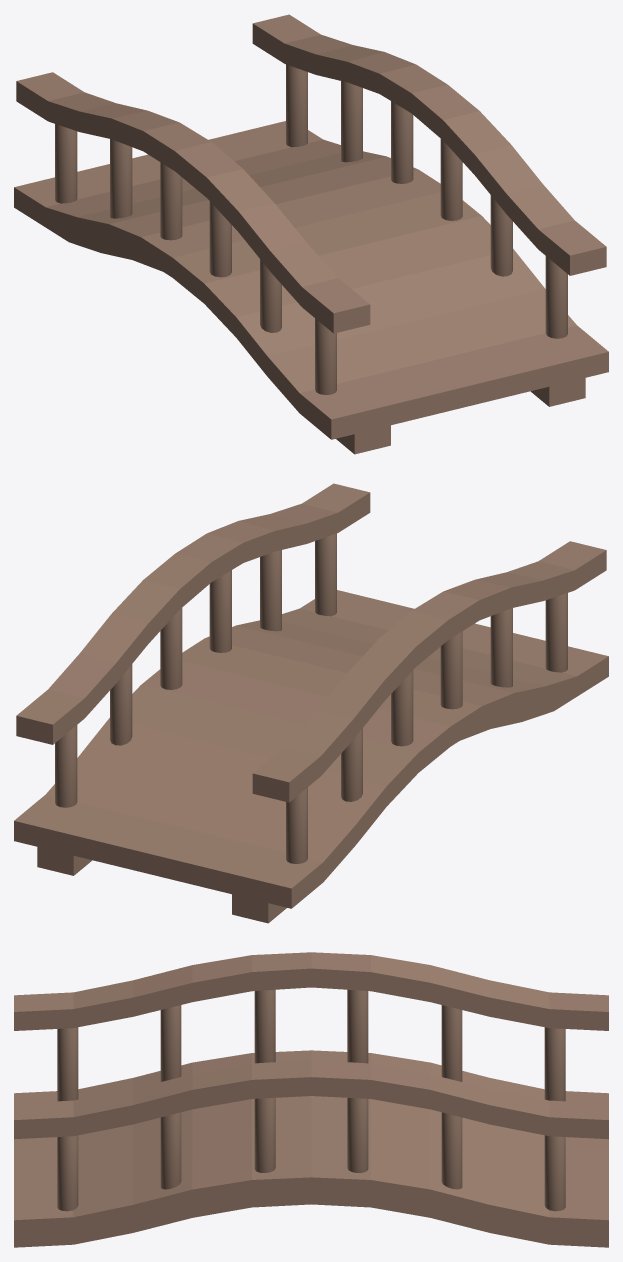
Rendered from Bridge.fbx.
The picture shows the model from 3 angles, top to bottom: view 1: azimuth 30°, elevation 25°; view 2: azimuth 150°, elevation 25°; view 3: azimuth 270°, elevation 25°; orthographic projection. The views are drawn at different scales.
Visible parts, largest first — view 1: Cube, Cube.001, Cylinder; view 2: Cube, Cube.001, Cylinder; view 3: Cube, Cube.001, Cylinder.
Part boxes in pixels (x1,y1,x2,y2): Cube: [14, 121, 608, 454]; Cube.001: [16, 14, 606, 333]; Cylinder: [55, 64, 567, 394]; Cube: [14, 590, 608, 923]; Cube.001: [16, 483, 606, 802]; Cylinder: [55, 533, 567, 863]; Cube: [14, 1050, 608, 1247]; Cube.001: [14, 952, 608, 1139]; Cylinder: [57, 989, 565, 1211].
Bounding box in the file's own units: 334 × 222 × 662.
